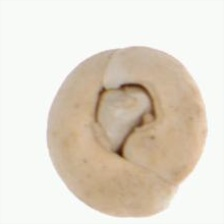L3: (91, 81, 159, 165)
L4: (46, 47, 208, 217)
